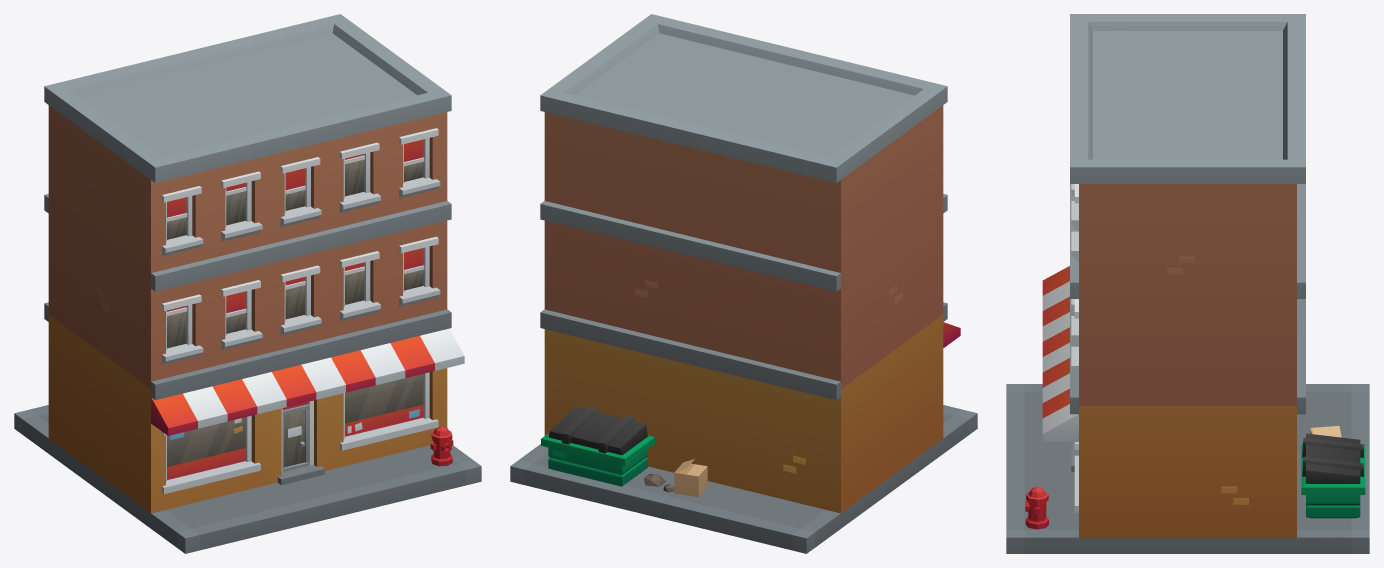
File: building_E.obj
3 views of the same model, side by side, from view 1: azimuth 30°, elevation 25°; view 2: azimuth 150°, elevation 25°; view 3: azimuth 270°, elevation 25° (orthographic). The views are drawn at different scales.
Size of the model in its own units: 2.01 by 2.35 by 2.
1 material, 1 textured.
